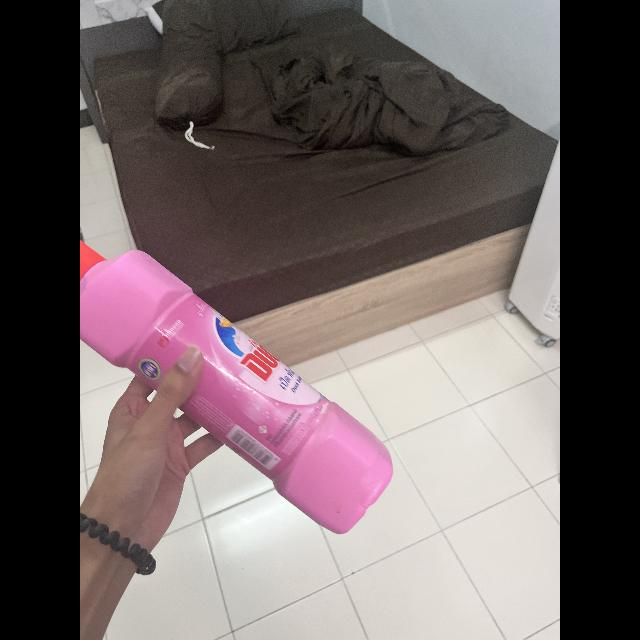chemical_plastic_bottle: (80, 237, 394, 538)
